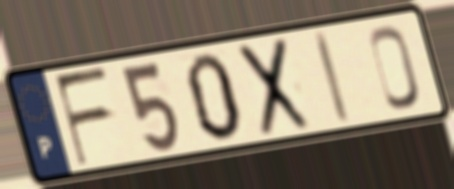0: (183, 50, 246, 143), (368, 23, 423, 114)
5: (117, 56, 184, 154)
F: (51, 63, 115, 170)
I: (310, 27, 354, 128)
X: (235, 33, 314, 141)
